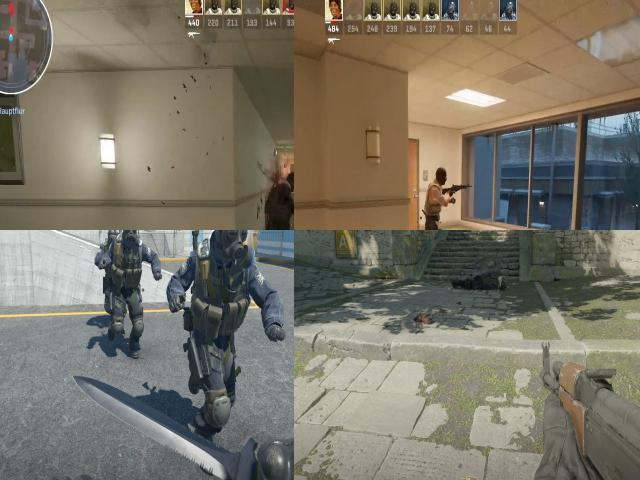CT: (186, 230, 264, 438), (109, 230, 154, 358), (98, 230, 116, 318)
CT-Head: (210, 230, 249, 258), (122, 230, 138, 239), (106, 230, 117, 243)
Dead: (262, 172, 294, 230), (449, 266, 512, 291)
T: (422, 173, 453, 230)
T-Head: (429, 162, 450, 193)
